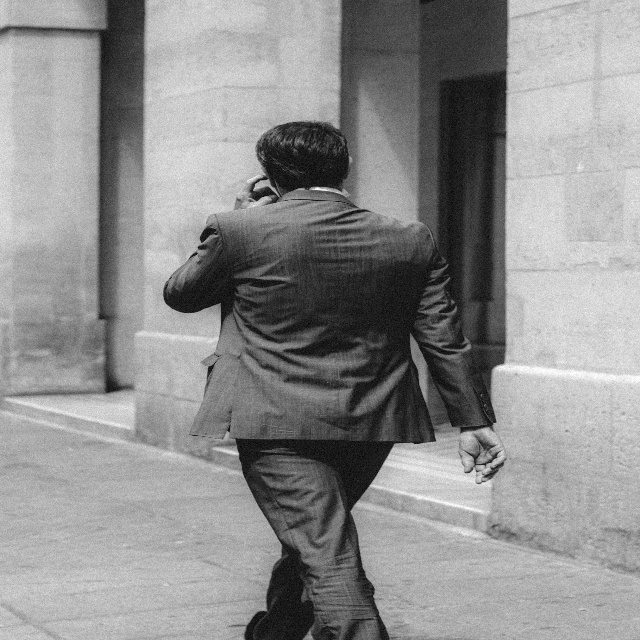Sin_guantes: (458, 426, 507, 484), (233, 174, 279, 210)
